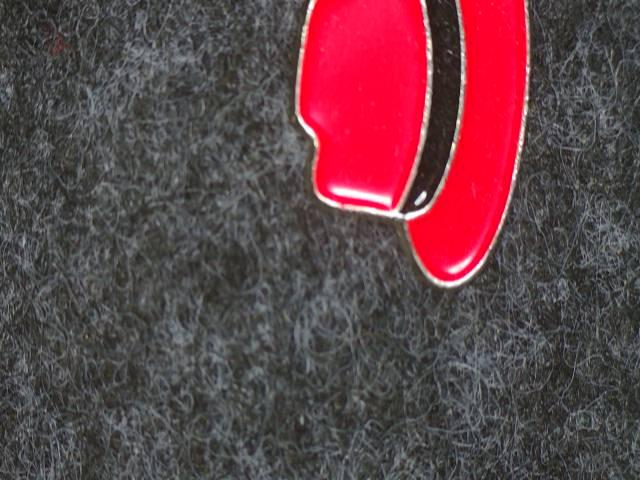Red-Hat: (276, 0, 558, 334)
